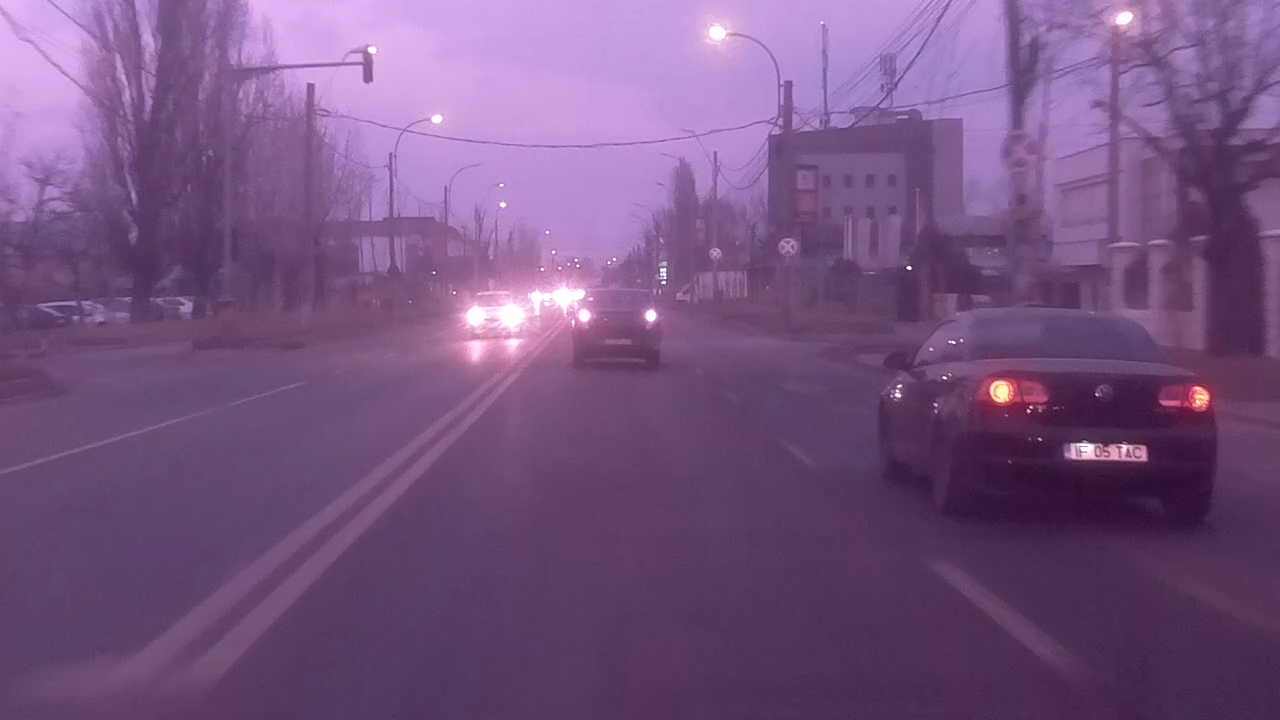license-plate: (1061, 440, 1150, 463)
